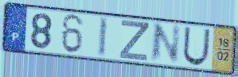6: (60, 13, 85, 55)
8: (30, 12, 54, 50)
I: (97, 16, 109, 59)
N: (149, 22, 183, 64)
U: (181, 26, 212, 68)
Z: (118, 19, 150, 63)
